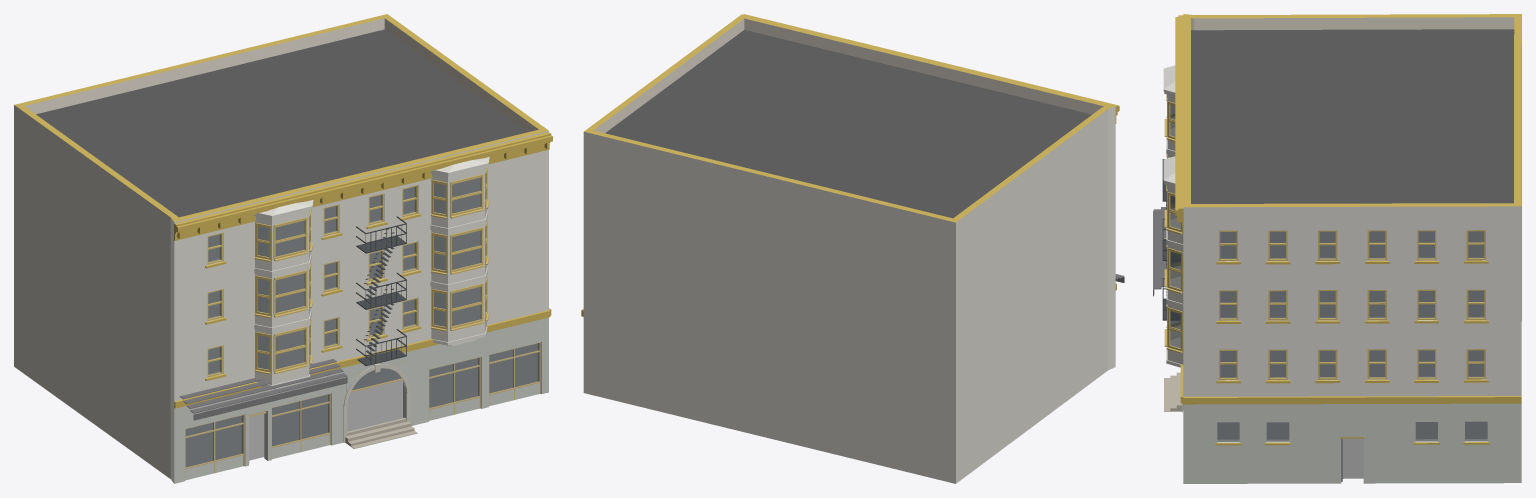
Rendered from exterior.glb.
3 renders of one model, left to right at view 1: azimuth 30°, elevation 25°; view 2: azimuth 150°, elevation 25°; view 3: azimuth 270°, elevation 25°, orthographic. The views are drawn at different scales.
Parts seen in each view (by area): view 1: shell, roof, shadow-proxy, bay-glazing-hyb, glazing, bay-windows-hyb, trim, storefront, fire-escape, frames, awning-spans-0, hyC-arches-0 (+1 smaller); view 2: shell, roof, trim; view 3: shell, roof, glazing, shadow-proxy, trim, frames, bay-windows-hyb, bay-glazing-hyb, awning-spans-0, fire-escape, hyC-arches-0.
Part boxes in pixels (x1,y1,x2,y2): shell: (14, 14, 548, 483); roof: (36, 29, 526, 217); shadow-proxy: (186, 178, 537, 466); bay-glazing-hyb: (254, 167, 489, 374); glazing: (185, 187, 538, 467); bay-windows-hyb: (254, 157, 489, 389); trim: (174, 132, 552, 408); storefront: (185, 342, 540, 480); fire-escape: (356, 216, 406, 366); frames: (207, 185, 417, 377); awning-spans-0: (179, 359, 347, 418); hyC-arches-0: (343, 361, 417, 448); shell: (583, 14, 1115, 483); roof: (605, 30, 1091, 218); trim: (581, 14, 1119, 316); shell: (1183, 14, 1521, 483); roof: (1191, 29, 1514, 203); glazing: (1217, 231, 1487, 441); shadow-proxy: (1217, 231, 1487, 478); trim: (1175, 15, 1521, 445); frames: (1219, 230, 1485, 380); bay-windows-hyb: (1163, 65, 1183, 367); bay-glazing-hyb: (1164, 94, 1182, 353); awning-spans-0: (1153, 207, 1166, 294); fire-escape: (1162, 159, 1180, 320); hyC-arches-0: (1164, 372, 1183, 412).
Size of the model in its own units: 20.36 by 13.51 by 16.32.
